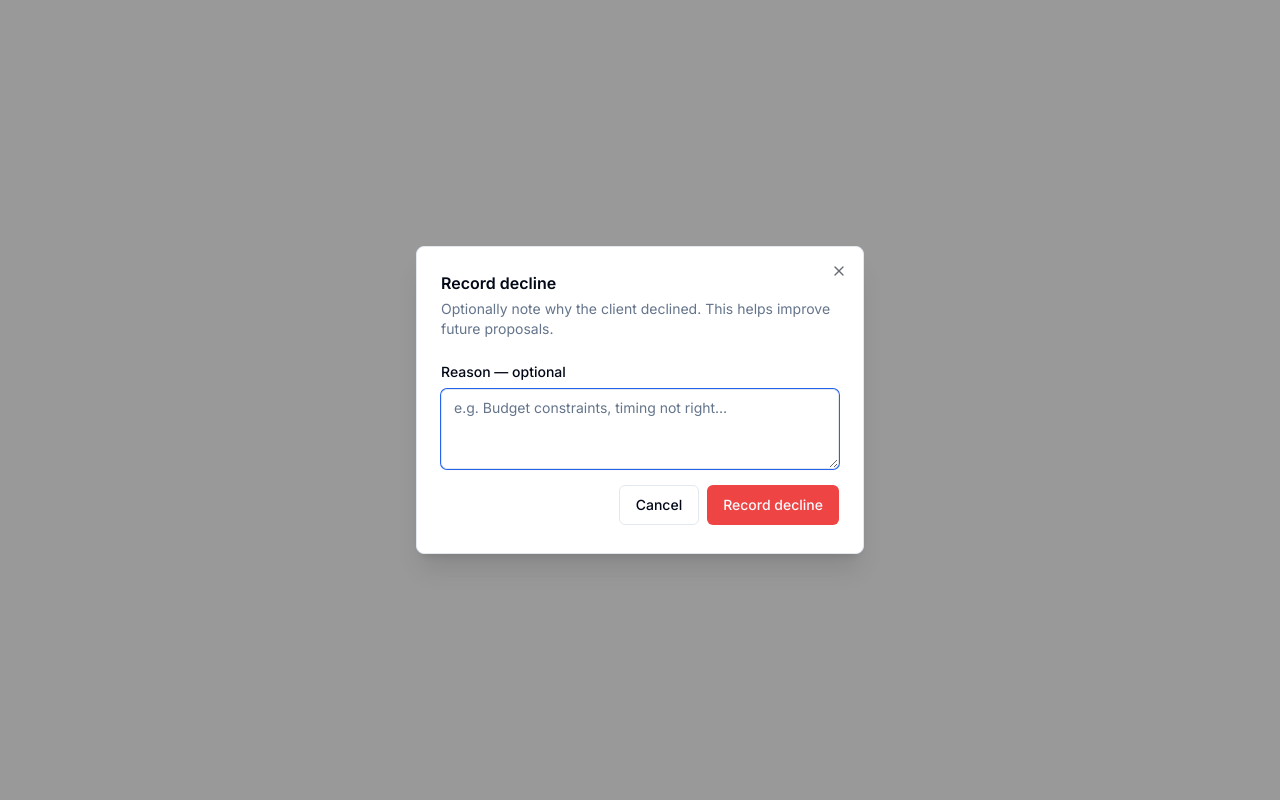
Test case: DeclineProposalDialog › shows an error message when mutateAsync throws
This screenshot has width=1280, height=800.
Click the button "Record decline" at (773, 505), box top-left (707, 485), bottom-right (839, 525)
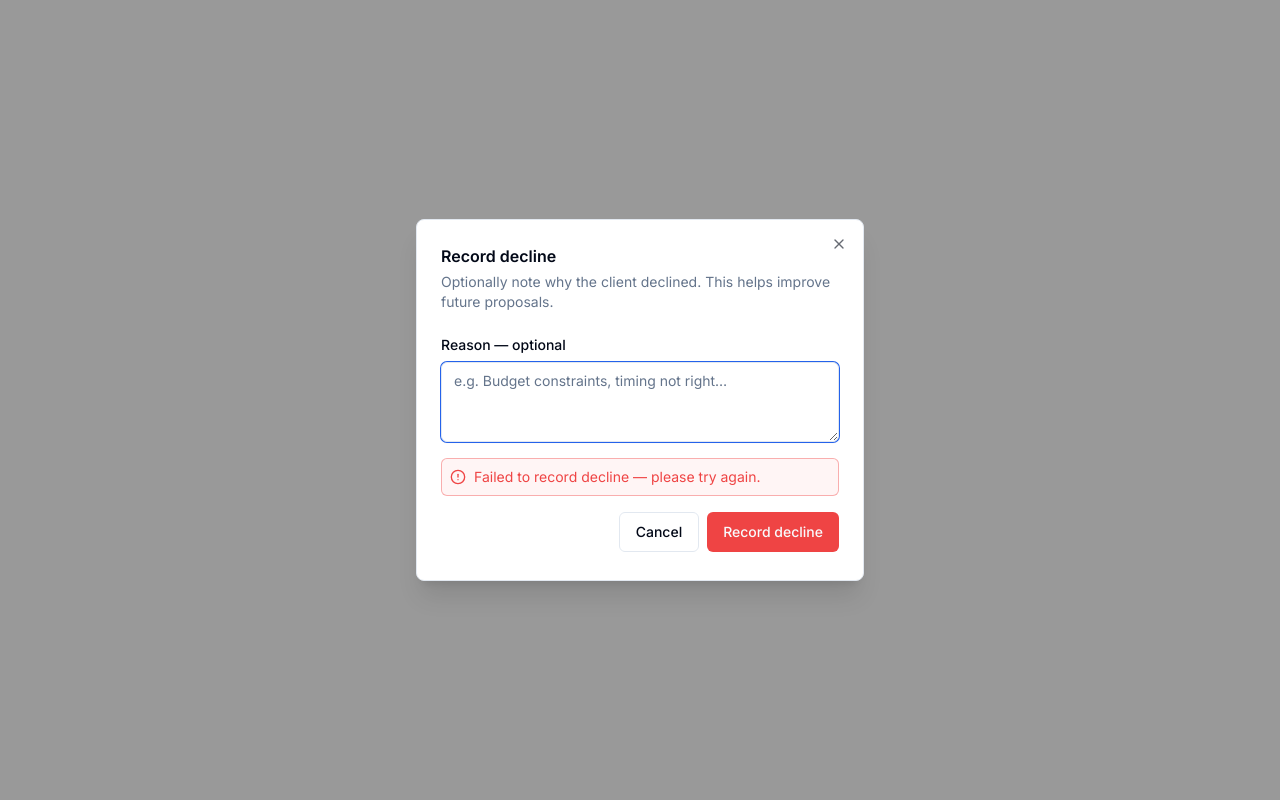
Result: the text "Failed to record decline — please try again." is shown at top-left (474, 467), bottom-right (760, 487)
